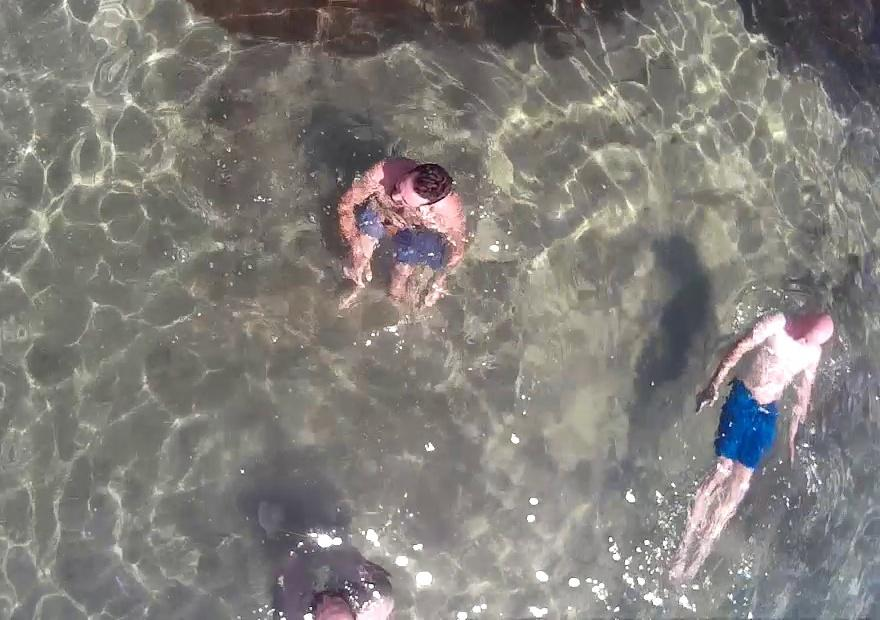swimmer: (706, 263, 850, 566), (318, 118, 484, 310)
